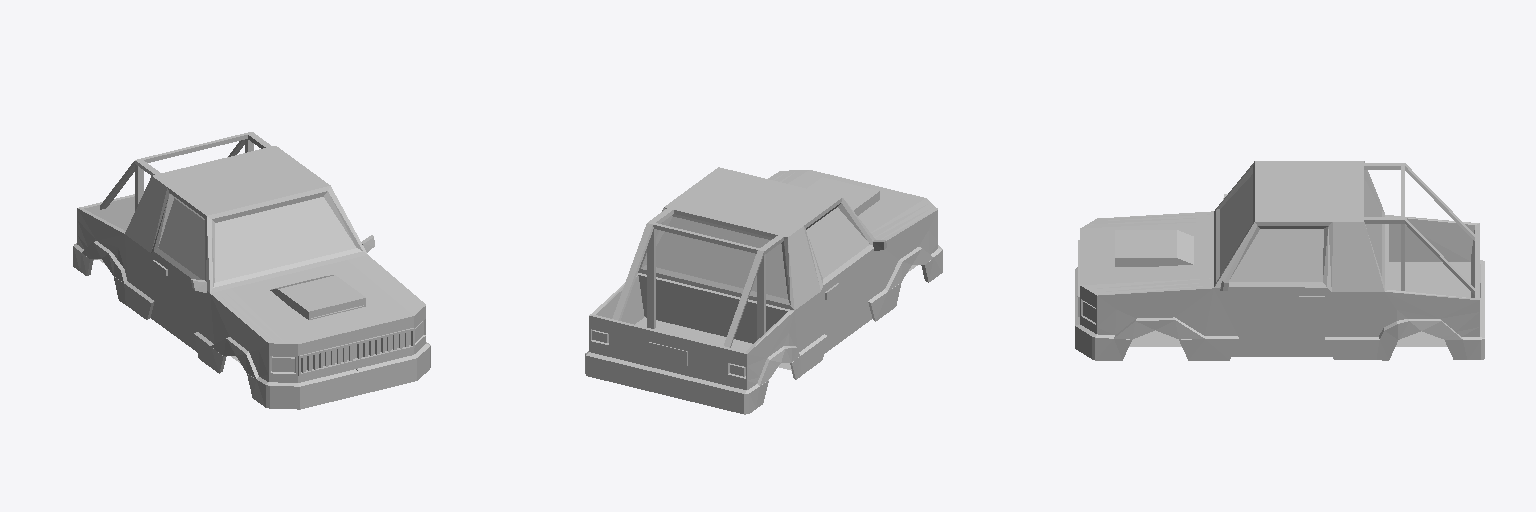
The model's file is largeCarBody.obj.
3 views of the same model, side by side, from view 1: azimuth 30°, elevation 25°; view 2: azimuth 150°, elevation 25°; view 3: azimuth 270°, elevation 25° (orthographic).
Visible parts, largest first — view 1: Cube; view 2: Cube; view 3: Cube.
Part boxes in pixels (left/top/right/bottom): Cube: left=73, top=132, right=430, bottom=409; Cube: left=585, top=167, right=942, bottom=414; Cube: left=1075, top=161, right=1484, bottom=360.
Size of the model in its own units: 3.67 by 2.49 by 7.19.